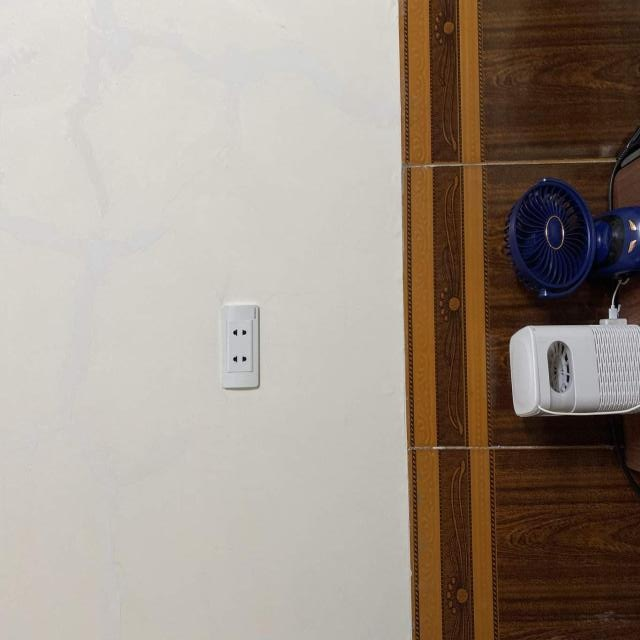outlet: (221, 304, 259, 390)
